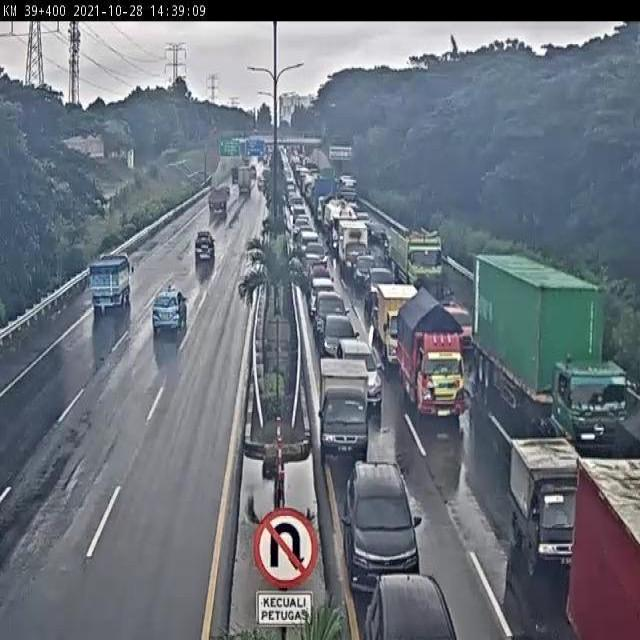big truck: (511, 274, 631, 426)
car: (348, 447, 448, 564), (356, 544, 467, 640), (316, 360, 374, 461), (140, 281, 192, 347), (328, 334, 383, 389), (318, 299, 366, 356)
small truck: (501, 428, 581, 559), (402, 307, 483, 428), (372, 281, 421, 376), (73, 256, 132, 321)
